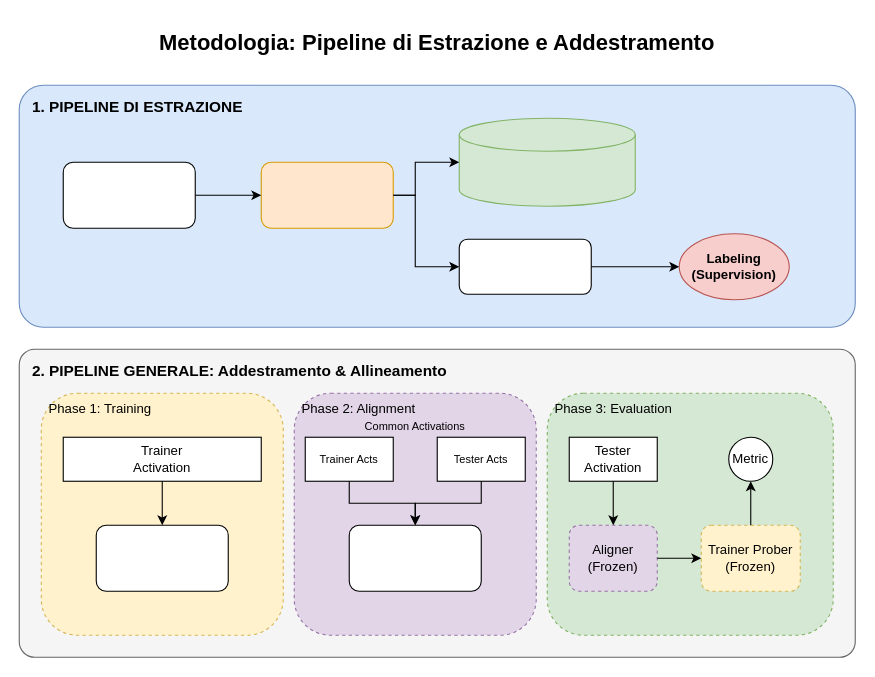
This 875x677 diagram has some shape labels left out. The centre of each missing label's shape, as x and y in pixels:
Alignment Mechanism: (414,557)
Extraction: All Layers & Components (Attn, MLP, Hidden): (546,161)
LLM (Forward Pass): (326,194)
Prompt "Is the fact true?": (128,194)
Response (Yes / No): (524,266)
Train Prober (Classifier): (161,557)
